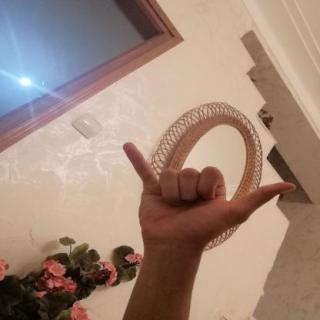YA: (110, 134, 310, 256)
